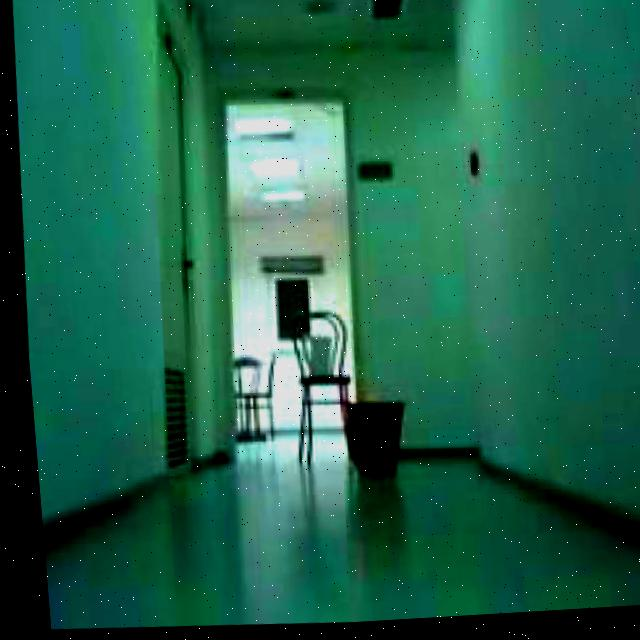Fire: (332, 385, 357, 407)
